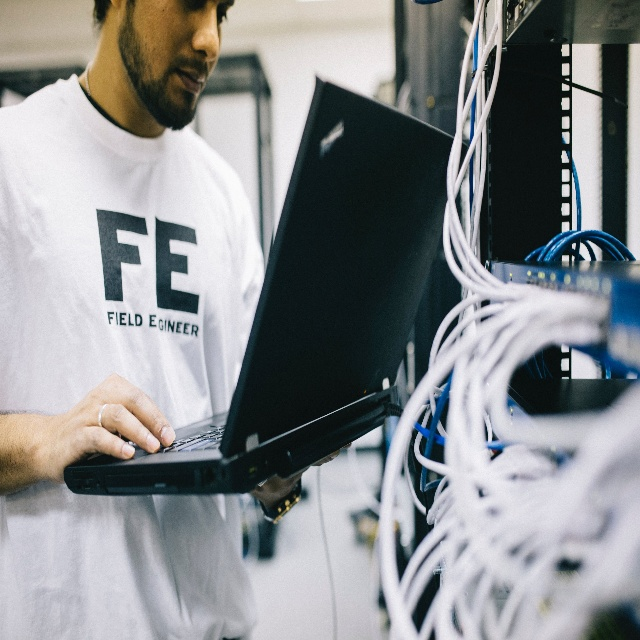Sin_guantes: (46, 371, 175, 485)
